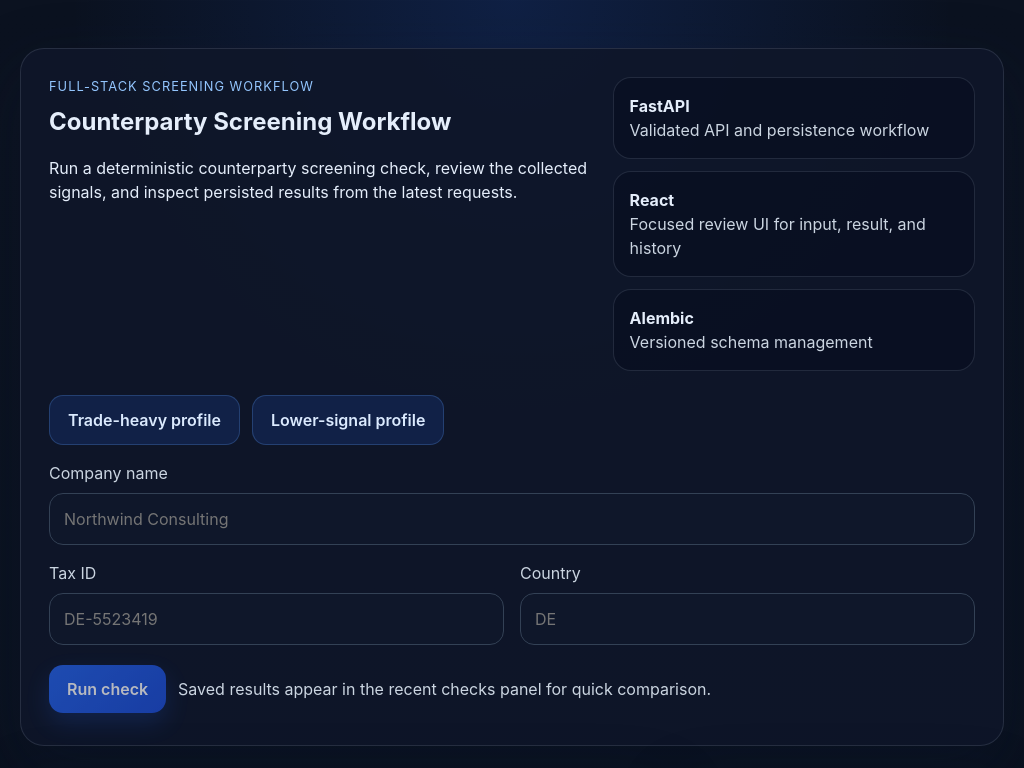
App › renders API validation errors returned from submission
In the field labelled "Company name": (512,519) [49,493,975,545], type "Example Company"
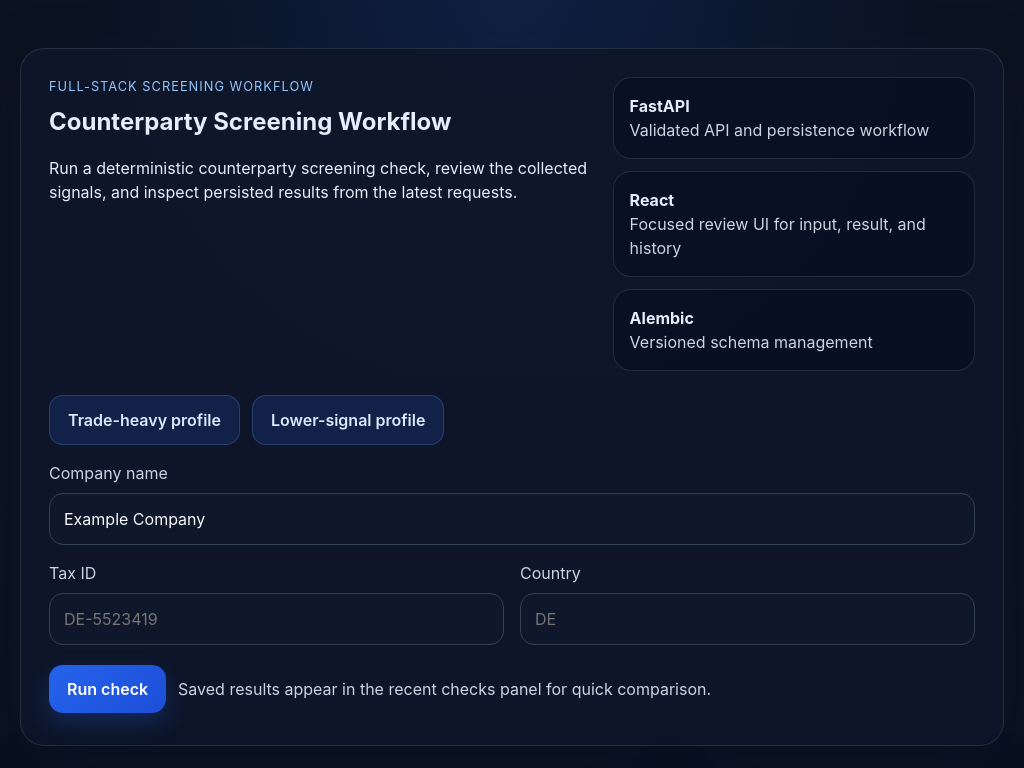
Click the button "Run check": (108,689) [49,665,166,713]
(page scrolled)
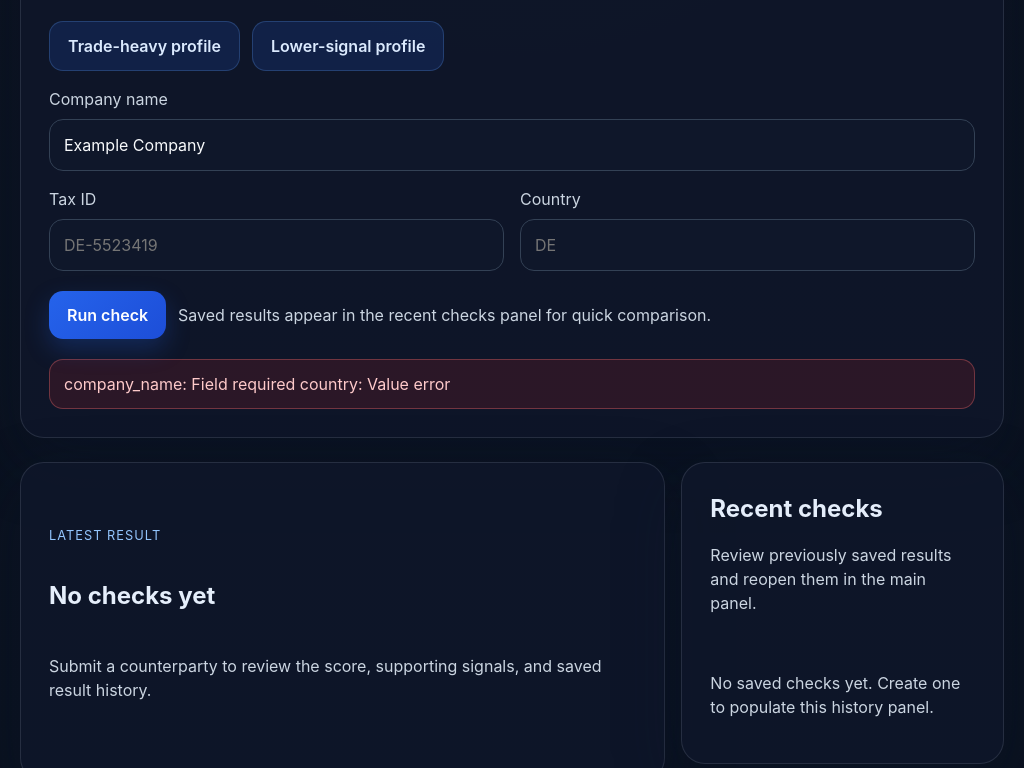
Check: the text "company_name: Field required country: Value error" is shown, box [49,359,975,409]
